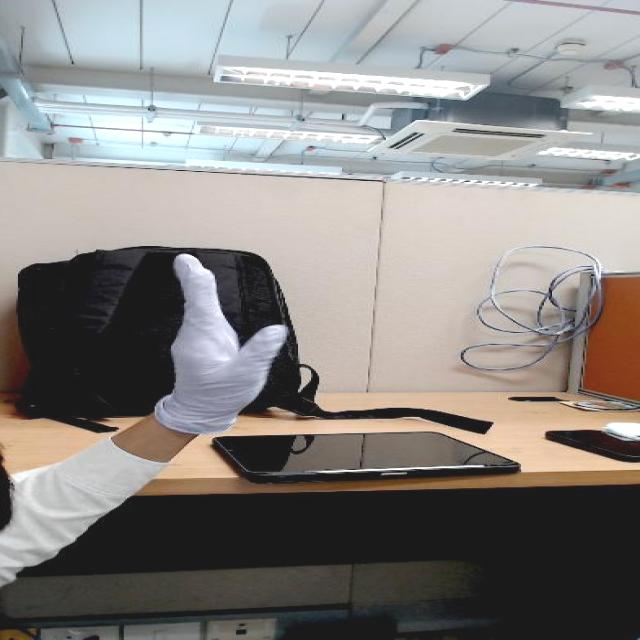glove: (150, 246, 306, 403)
